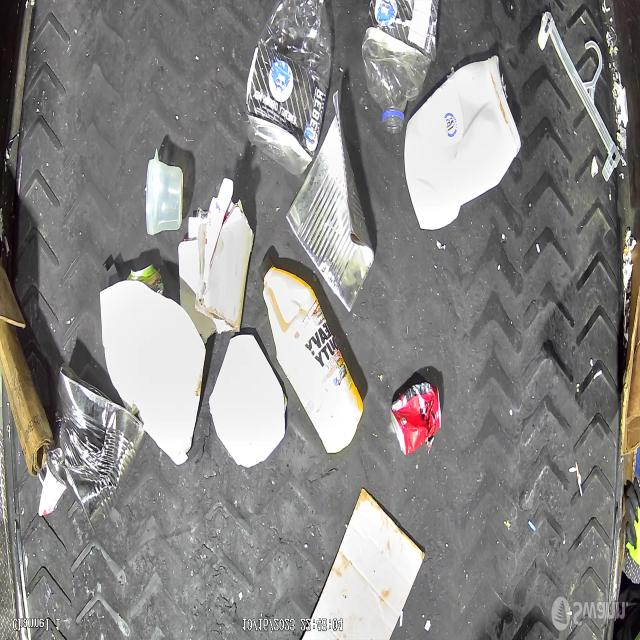can: (285, 89, 376, 315), (46, 363, 144, 532), (391, 381, 442, 456), (128, 265, 164, 295)
milk_jug: (404, 55, 522, 228)
non_white_jug: (256, 259, 361, 458)
plastic_bottle: (246, 0, 332, 178), (362, 0, 438, 134)
